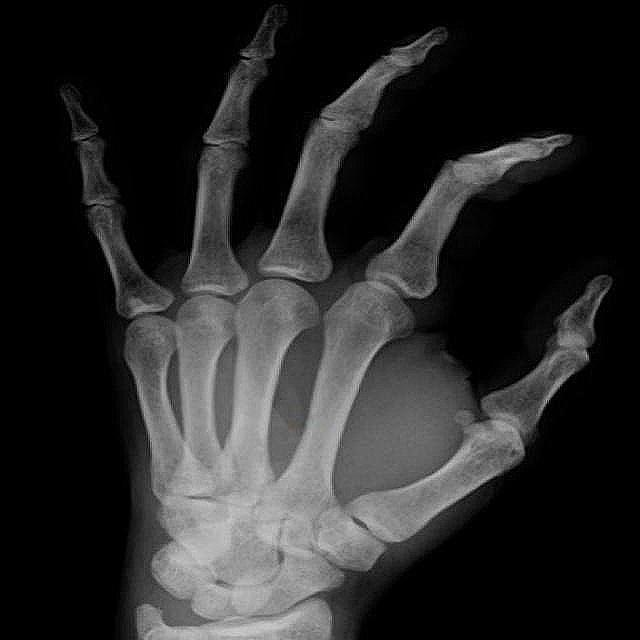bone: (215, 428, 272, 509)
